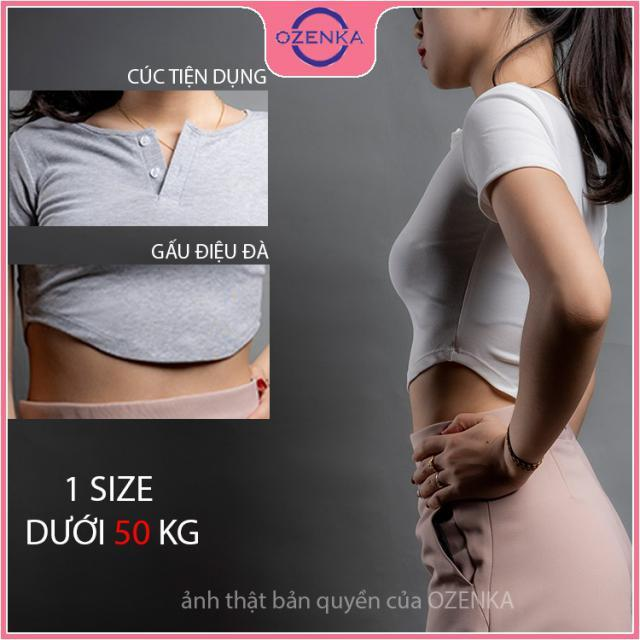Shirt: (378, 78, 609, 402)
